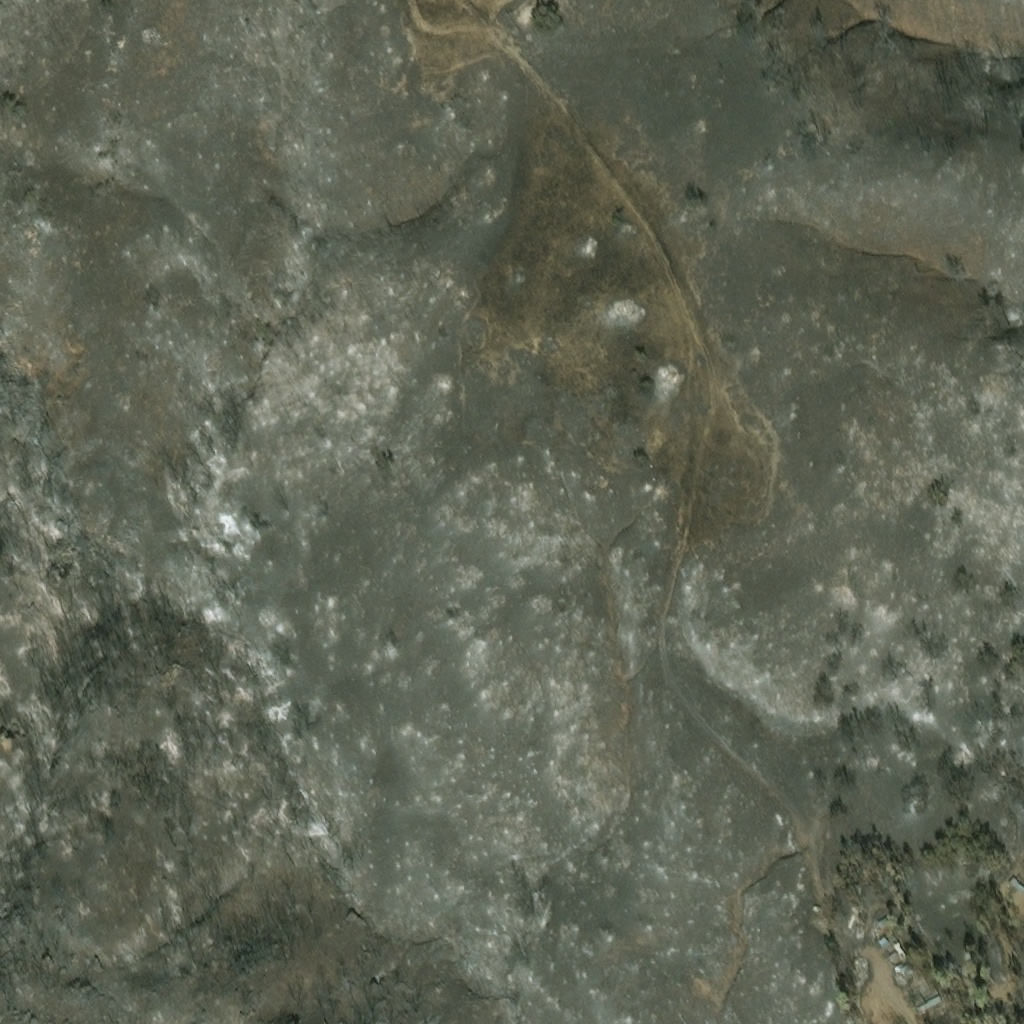3 destroyed: (883, 942, 902, 969), (917, 999, 943, 1018), (871, 921, 892, 941), (910, 975, 929, 996), (895, 946, 908, 965), (857, 960, 868, 978), (912, 997, 926, 1011), (901, 970, 913, 983), (878, 938, 890, 951), (894, 968, 905, 978), (855, 926, 864, 937), (834, 872, 841, 884), (455, 0, 466, 6), (812, 908, 822, 913)
4 un-classified: (1008, 879, 1023, 897)
